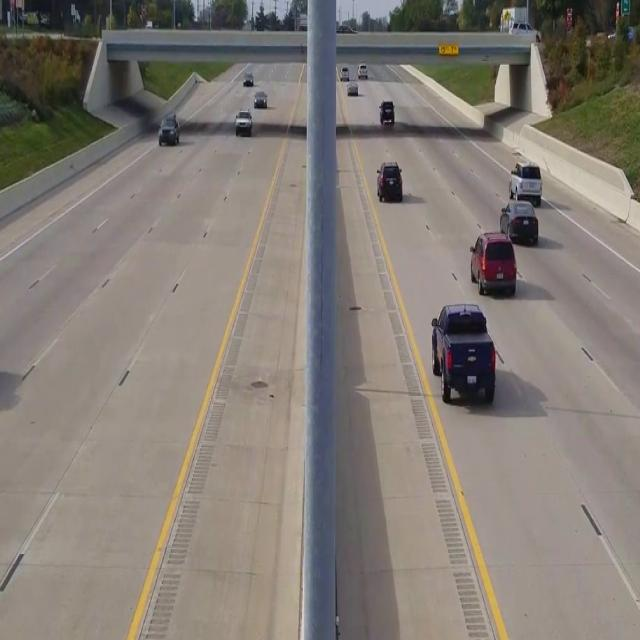car: (376, 160, 402, 202), (158, 112, 180, 144), (235, 108, 252, 136), (379, 100, 394, 124)
